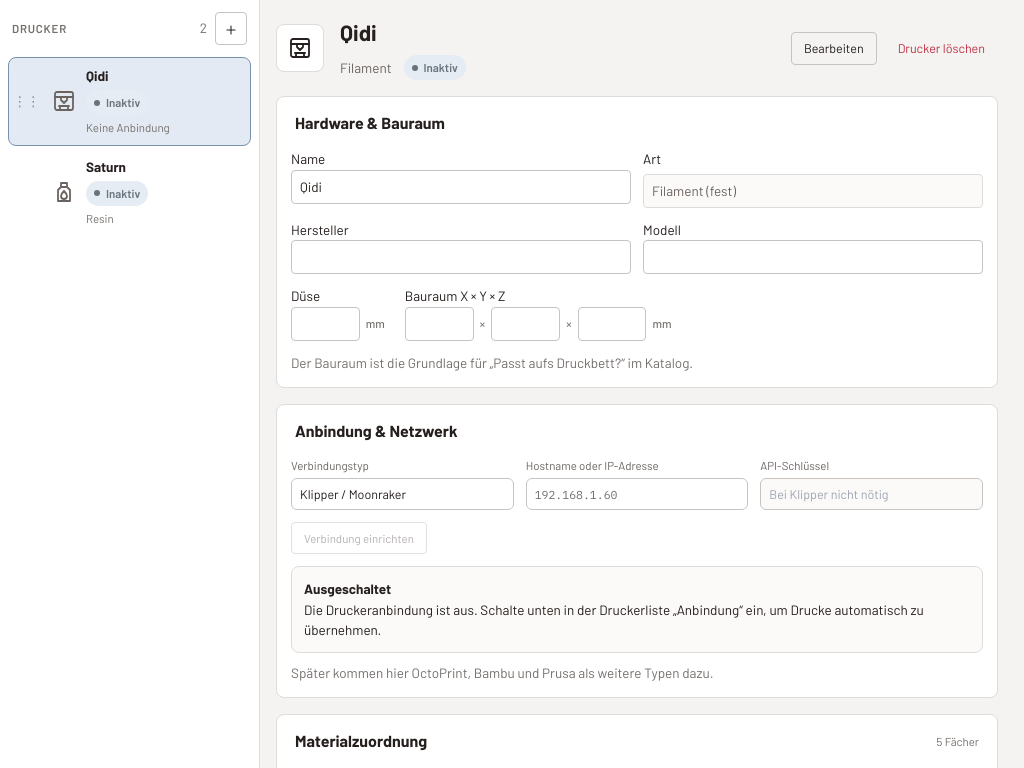
Test: shows master, detail cards and read-only slots; selects the other printer
Expected: the heading "Qidi" is shown, [340, 19, 377, 45]
Expected: the heading "Hardware & Bauraum" is shown, [295, 113, 445, 132]
Click the button "Saturn Inaktiv Resin" at [147, 192], box [44, 148, 250, 235]
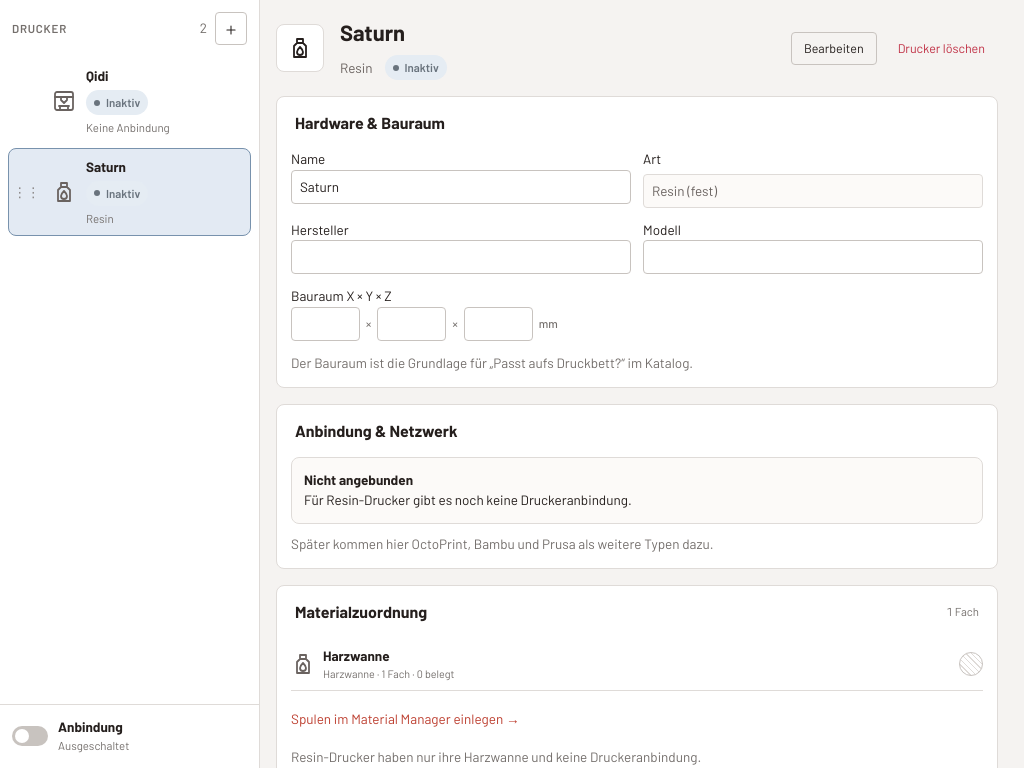
Expected: the field labelled "Name" holds "Saturn", [291, 170, 631, 204]
Expected: the label labelled "Düse" is gone
Expected: the text "Für Resin-Drucker gibt es noch keine Druckeranbindung." is shown, [304, 491, 632, 508]
